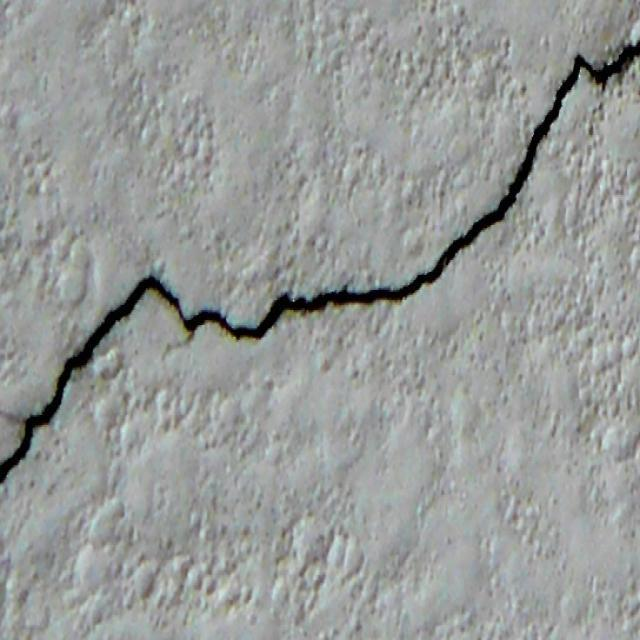Diagonal: (0, 30, 640, 489), (317, 490, 317, 490)
